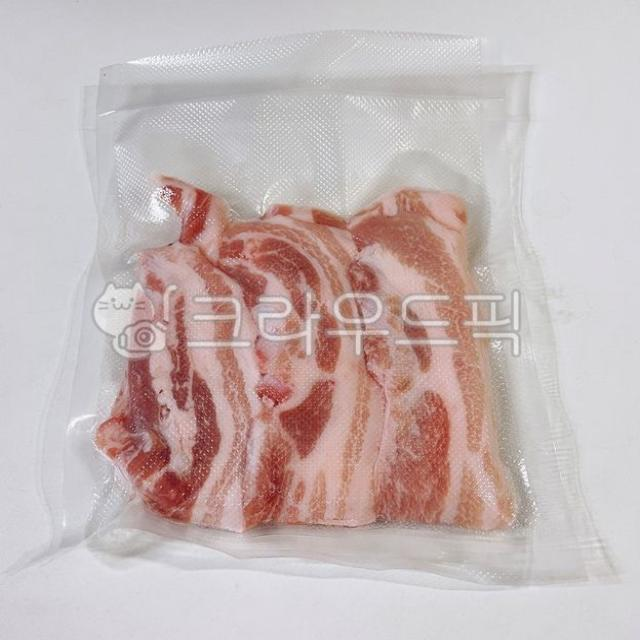pork: (87, 124, 528, 552)
